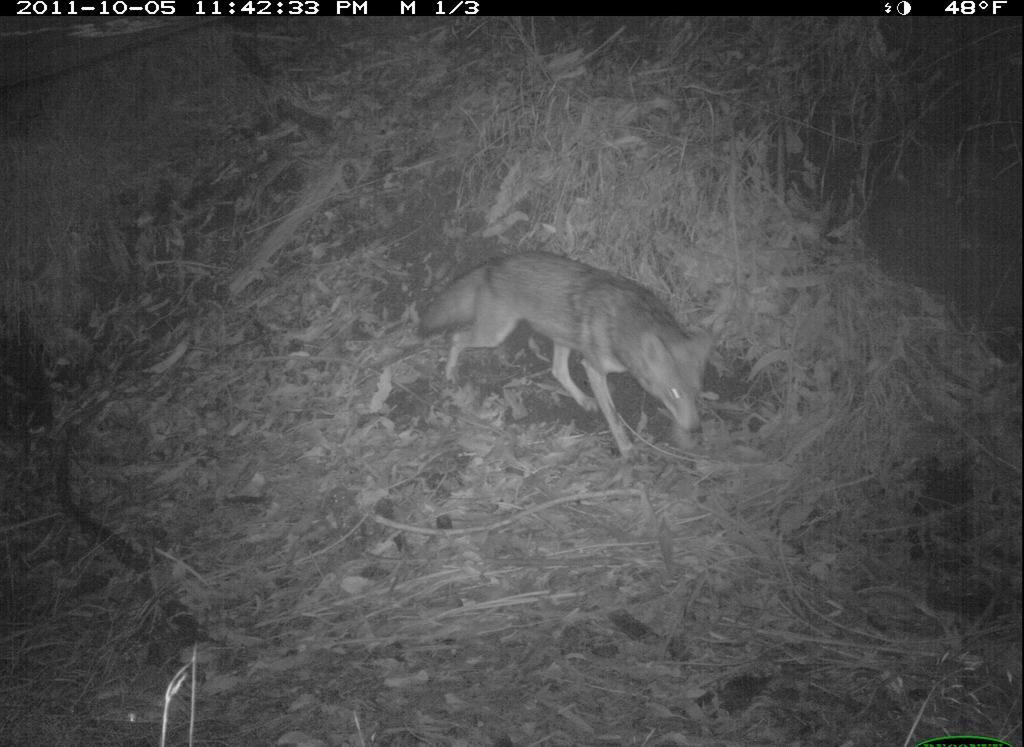coyote: (413, 248, 720, 468)
